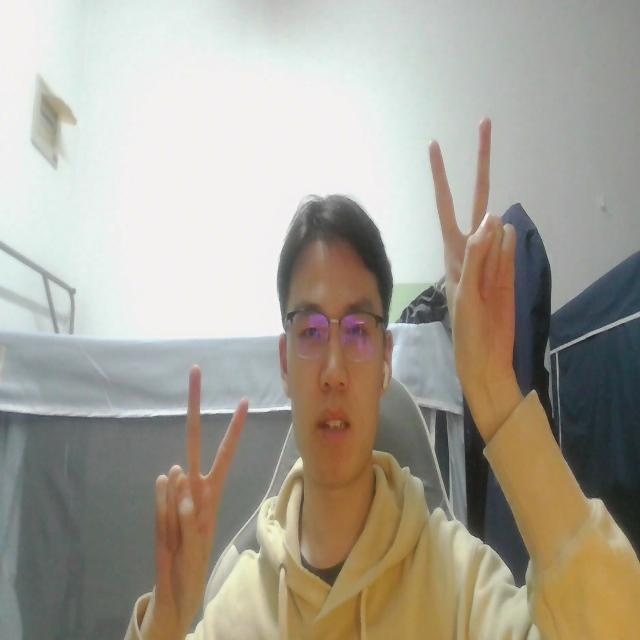yes: (426, 107, 521, 397), (150, 361, 251, 617)
